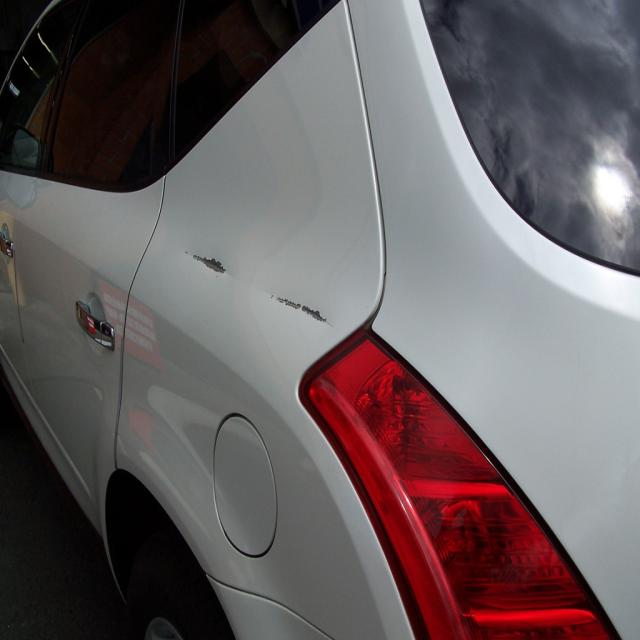Scratch: (274, 296, 332, 327), (190, 249, 229, 278)
